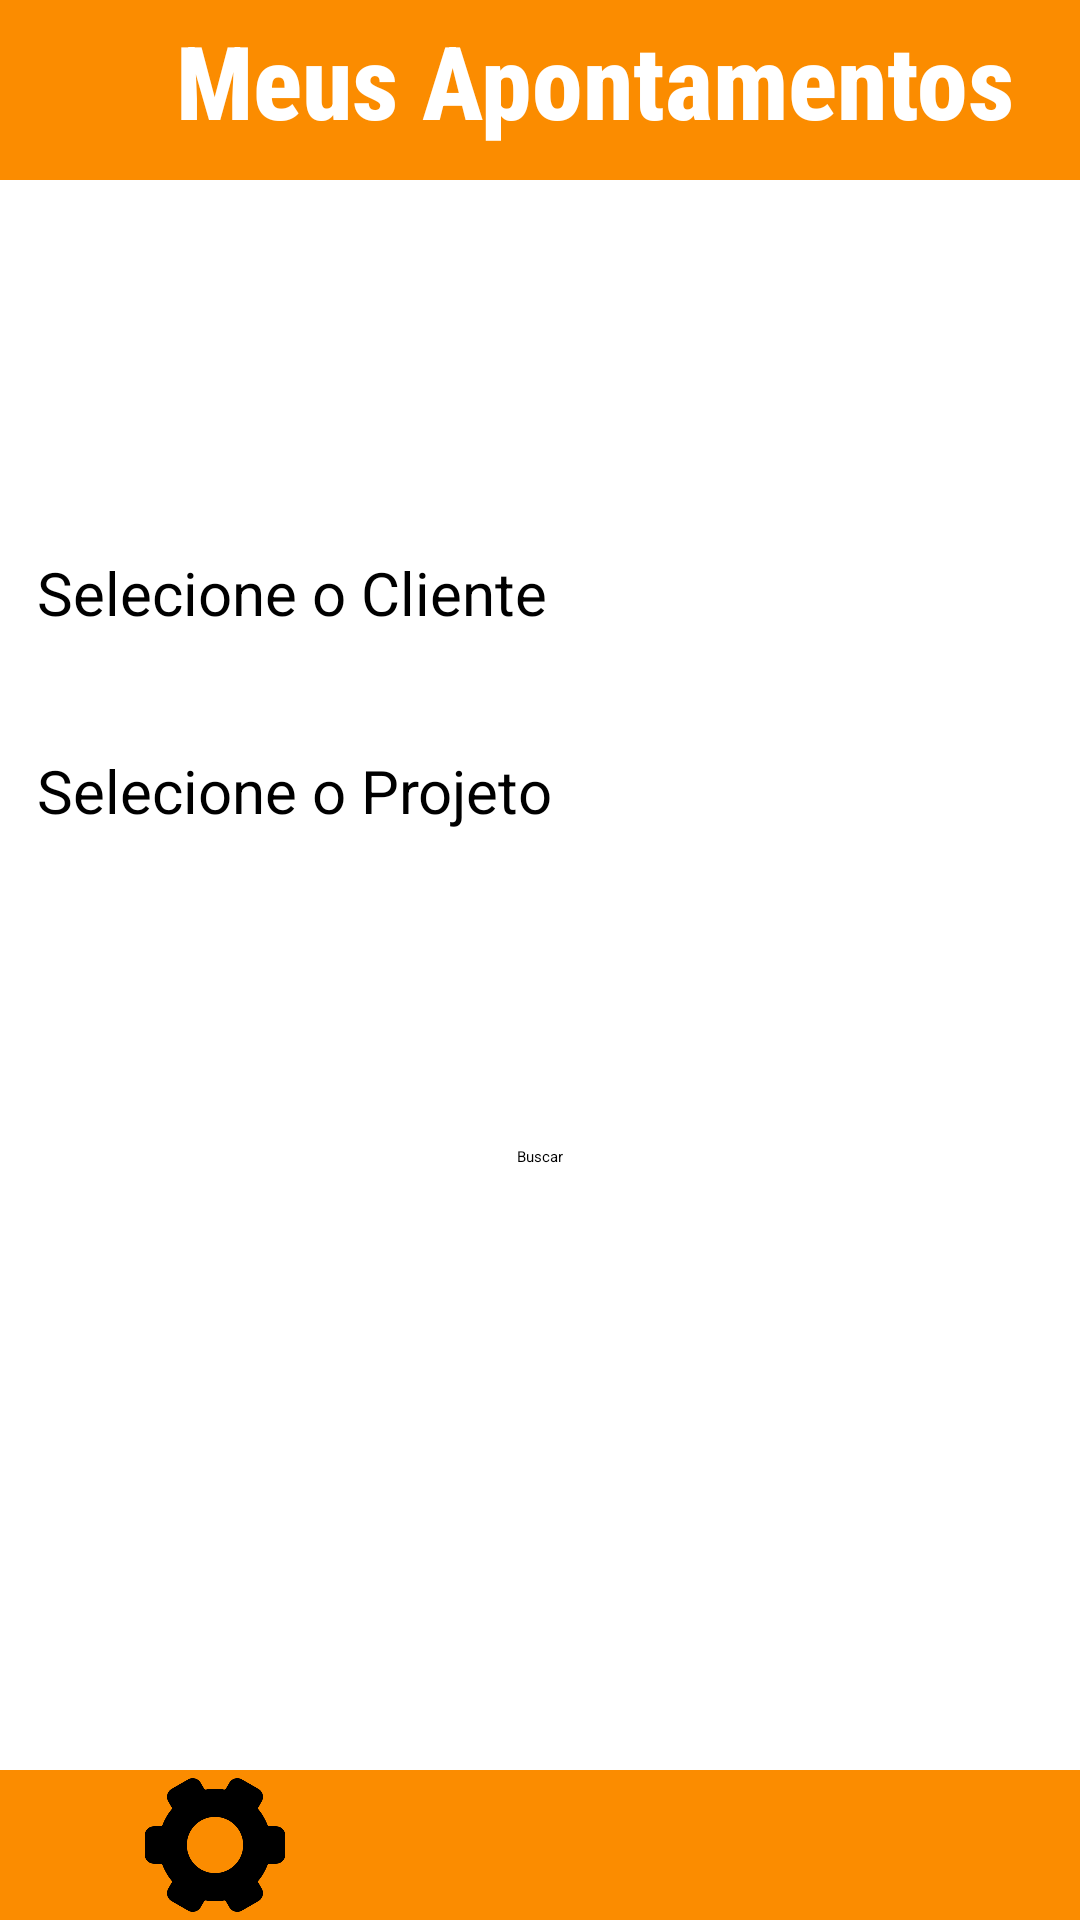

Named icons in this screenshot (1080×1920) and their bounding boxes, Rect(x1, y1, x2, y2):
config: Rect(145, 1778, 285, 1912)
